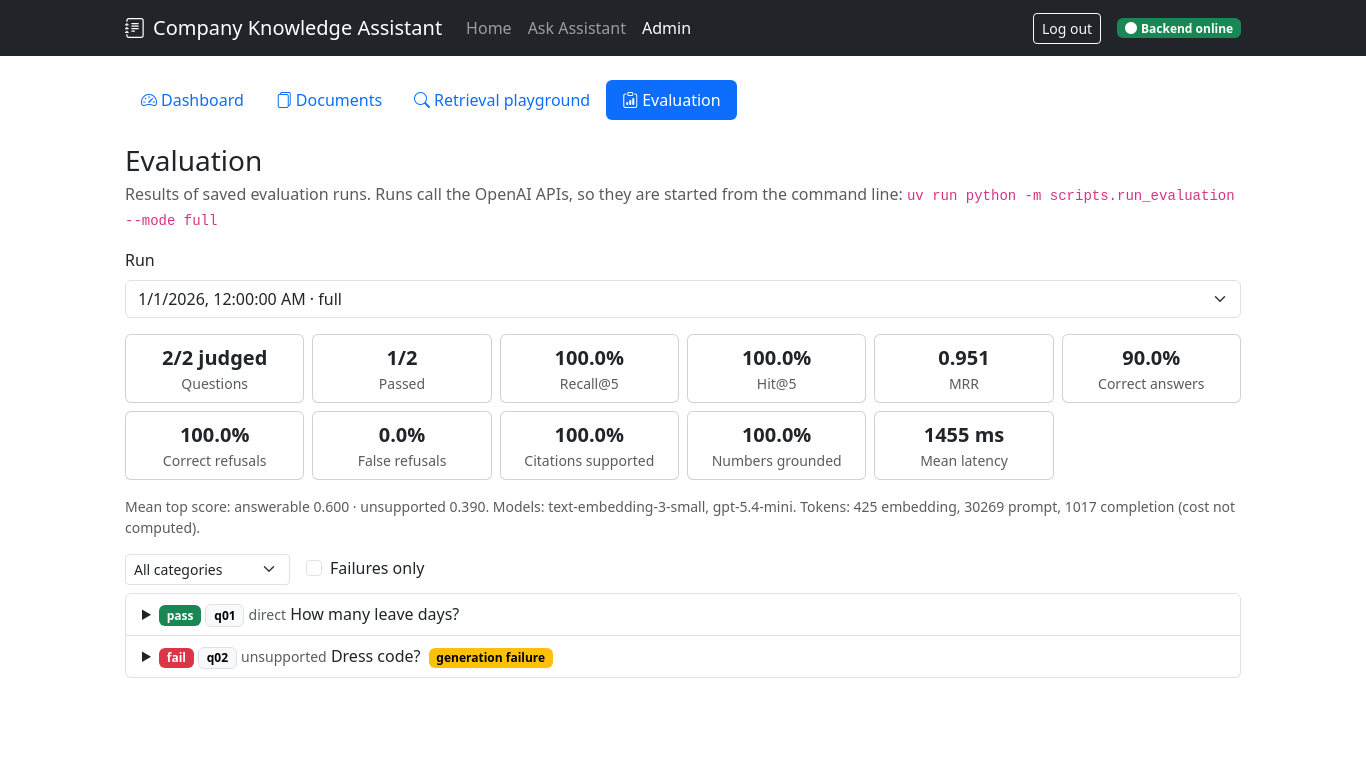
Test: admin panel › evaluation page › filters to failures only
Click the checkbox labelled "Failures only". click: coordinates (314, 568)
box: x1=306 y1=560 x2=322 y2=576
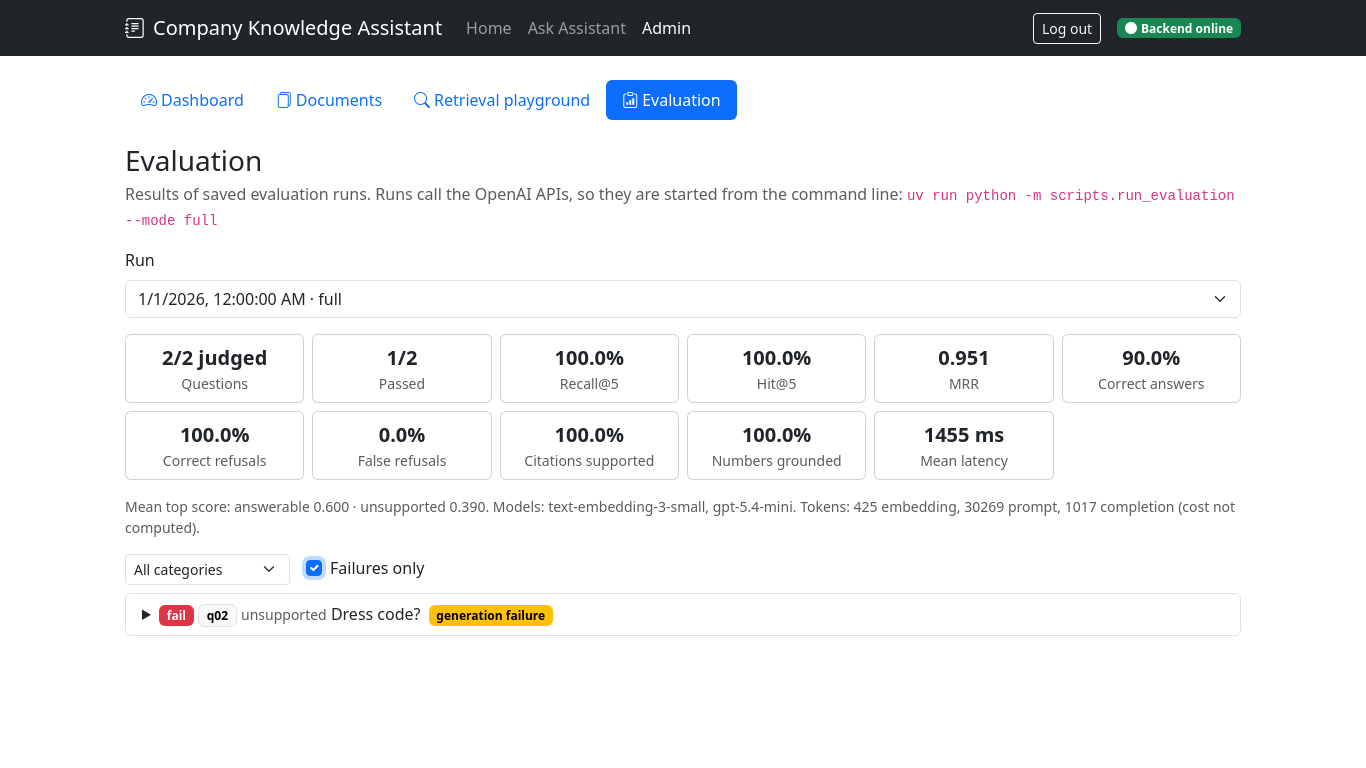
expect the list item with test id "eval-question" shows "Dress code?": met, box x1=331 y1=603 x2=421 y2=625
expect the number of list items with test id "eval-question" is 1: met, box x1=125 y1=593 x2=1241 y2=636
